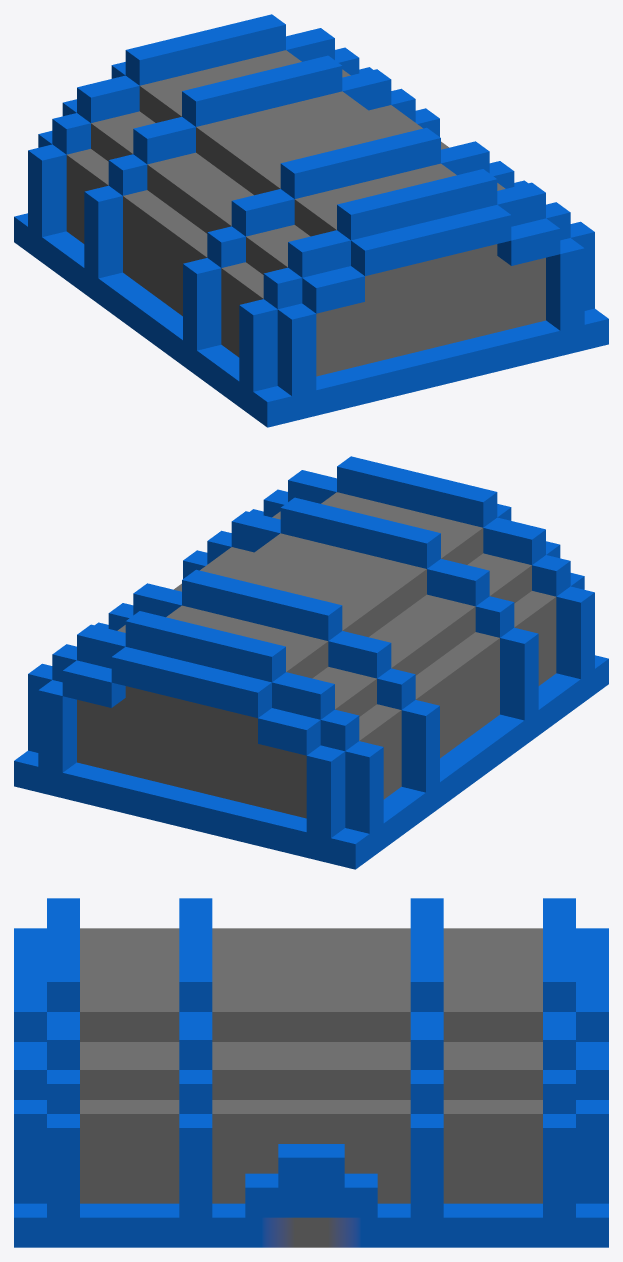
Rendered from Matrix_part_7.obj.
3 renders of one model, top to bottom at view 1: azimuth 30°, elevation 25°; view 2: azimuth 150°, elevation 25°; view 3: azimuth 270°, elevation 25°, orthographic. The views are drawn at different scales.
Visible parts, largest first — view 1: Matrix_part_7; view 2: Matrix_part_7; view 3: Matrix_part_7.
Boxes of the visible parts, box(x1,y1,x2,y2) form: Matrix_part_7: box(14, 14, 608, 427); Matrix_part_7: box(14, 456, 608, 869); Matrix_part_7: box(14, 898, 608, 1247).
Bounding box in the file's own units: 14 × 7 × 18.
1 material, 1 textured.
